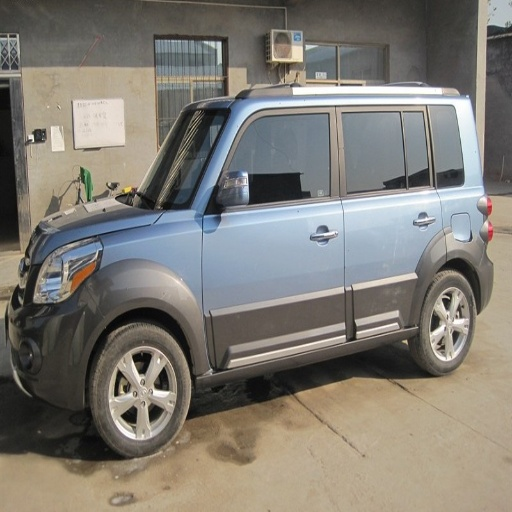back_left_door: (336, 105, 444, 330)
front_bumper: (11, 294, 96, 403)
front_glass: (140, 110, 230, 207)
front_left_door: (202, 106, 349, 367)
